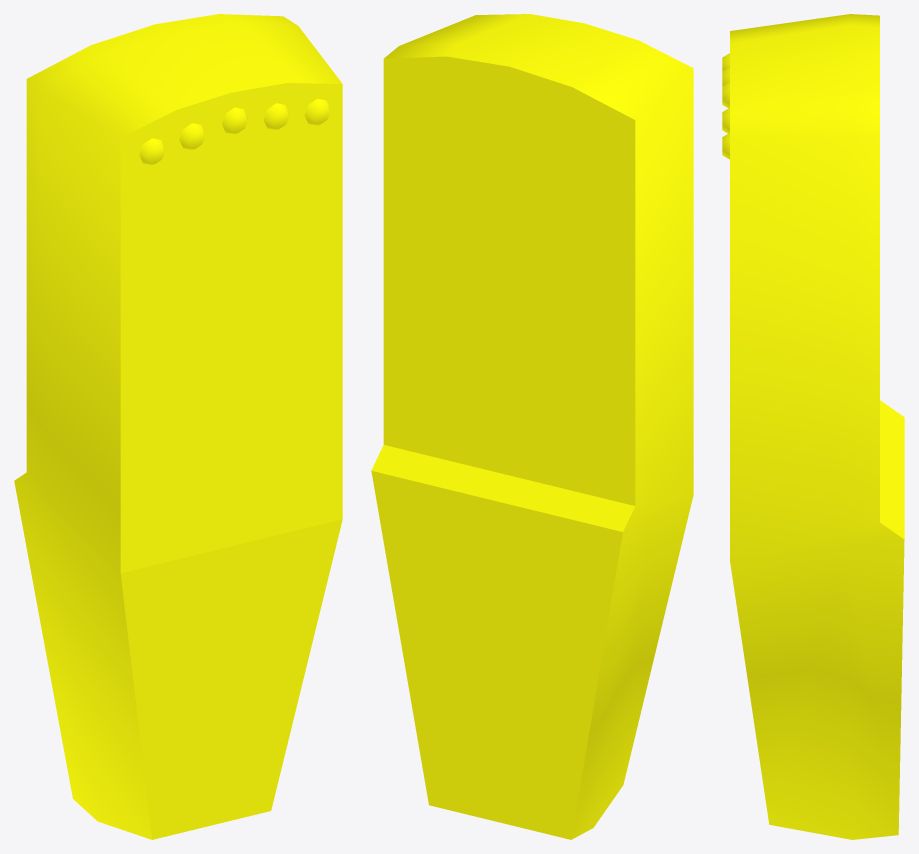
File: emf_reader.glb
3 renders of one model, left to right at view 1: azimuth 30°, elevation 25°; view 2: azimuth 150°, elevation 25°; view 3: azimuth 270°, elevation 25°, orthographic. The views are drawn at different scales.
Visible parts, largest first — view 1: emfreader; view 2: emfreader; view 3: emfreader.
Part boxes in pixels (left/top/right/bottom): emfreader: left=14, top=14, right=342, bottom=839; emfreader: left=371, top=14, right=693, bottom=839; emfreader: left=722, top=14, right=904, bottom=839.
Bounding box in the file's own units: 0.0541 × 0.1554 × 0.034.
1 material, 1 textured.
